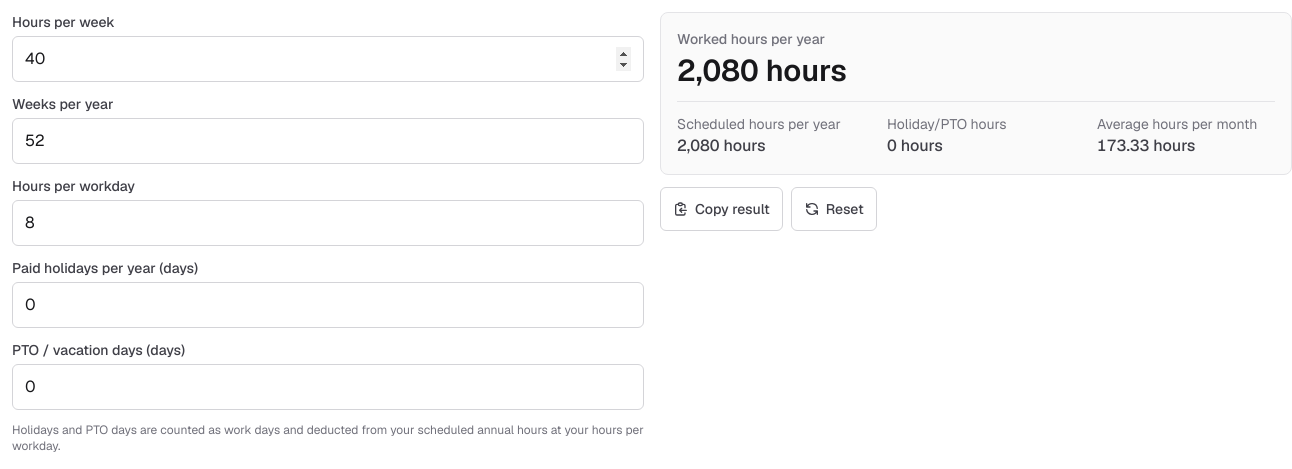
Scenario: WorkHoursInYearCalculator › deducts paid holidays from scheduled hours
Type "10" into the number field labelled "Paid holidays per year (days)". click: [328, 305]
box: [12,282,644,328]
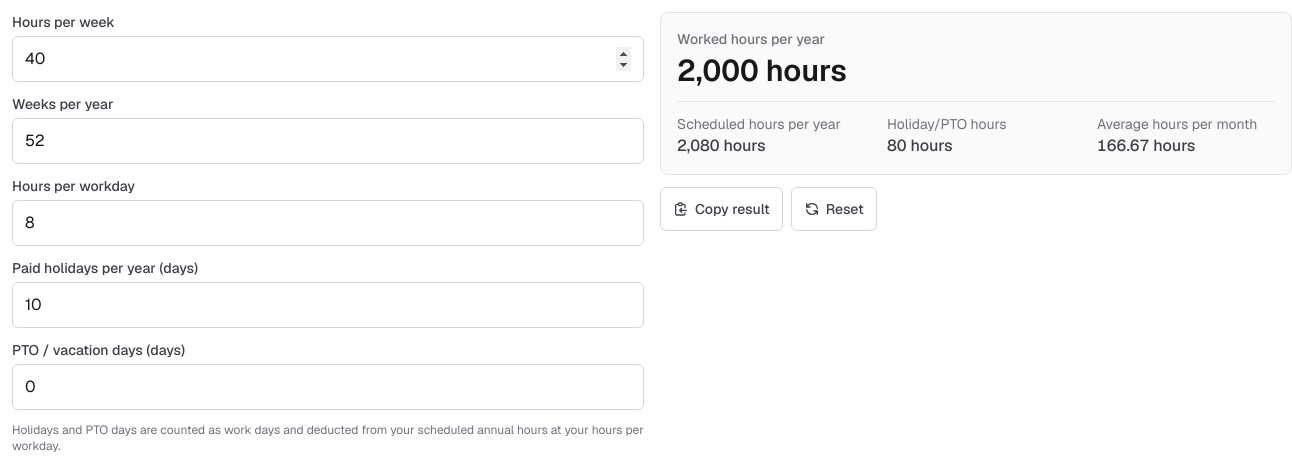
Check: the element named "Results" shows "2,080 hours", box [677,135,766,156]
Check: the text "2,000 hours" is shown, box [677,51,847,90]
Check: the text "80 hours" is shown, box [887,135,953,156]
